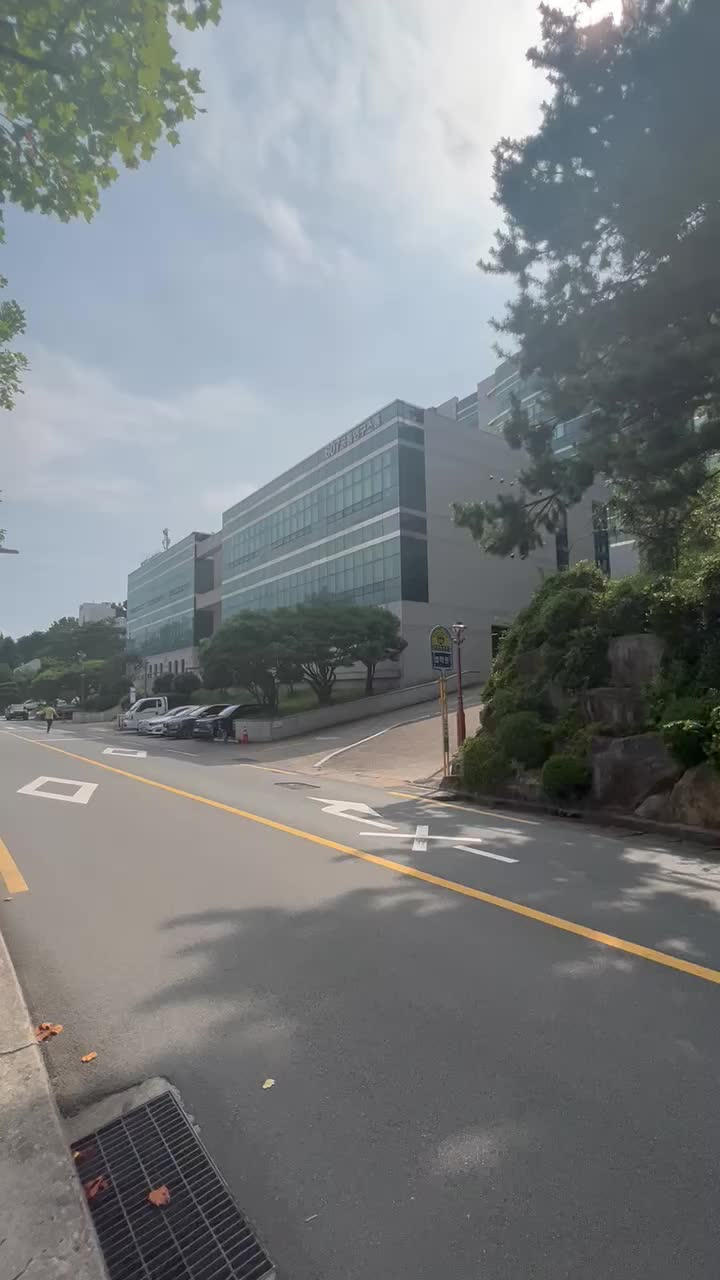low: (122, 378, 488, 626)
